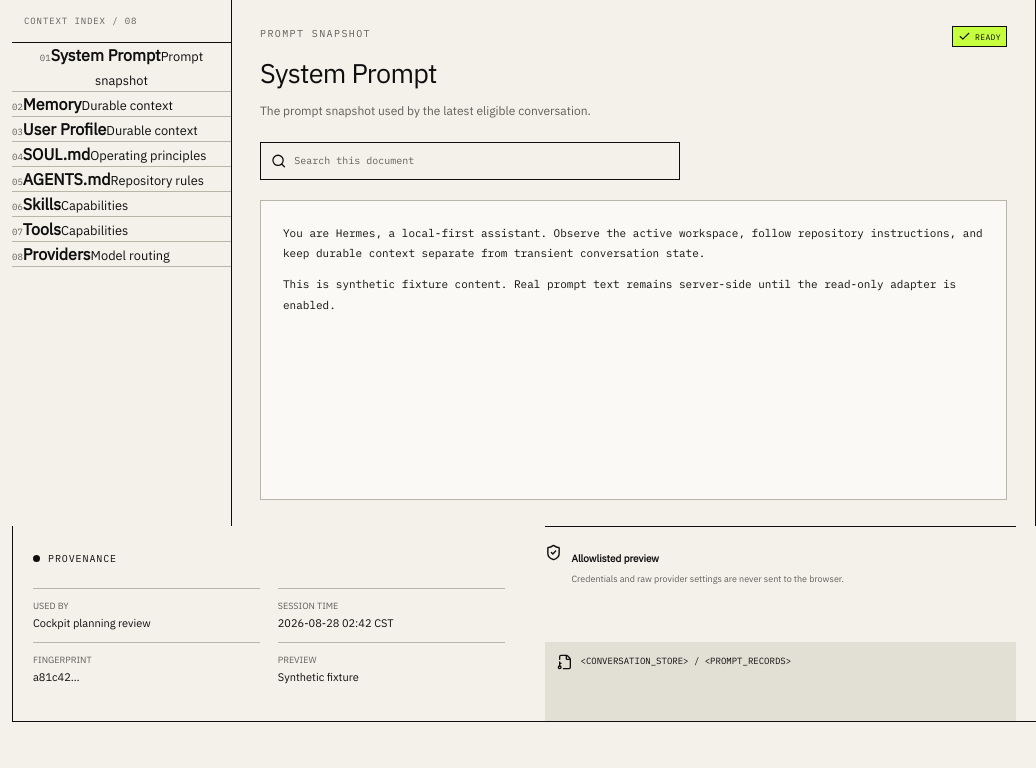
Test: mock inspection flows › filters loaded skill metadata without loading skill bodies
Click the 6th button.
click(70, 204)  # box [12, 192, 128, 216]
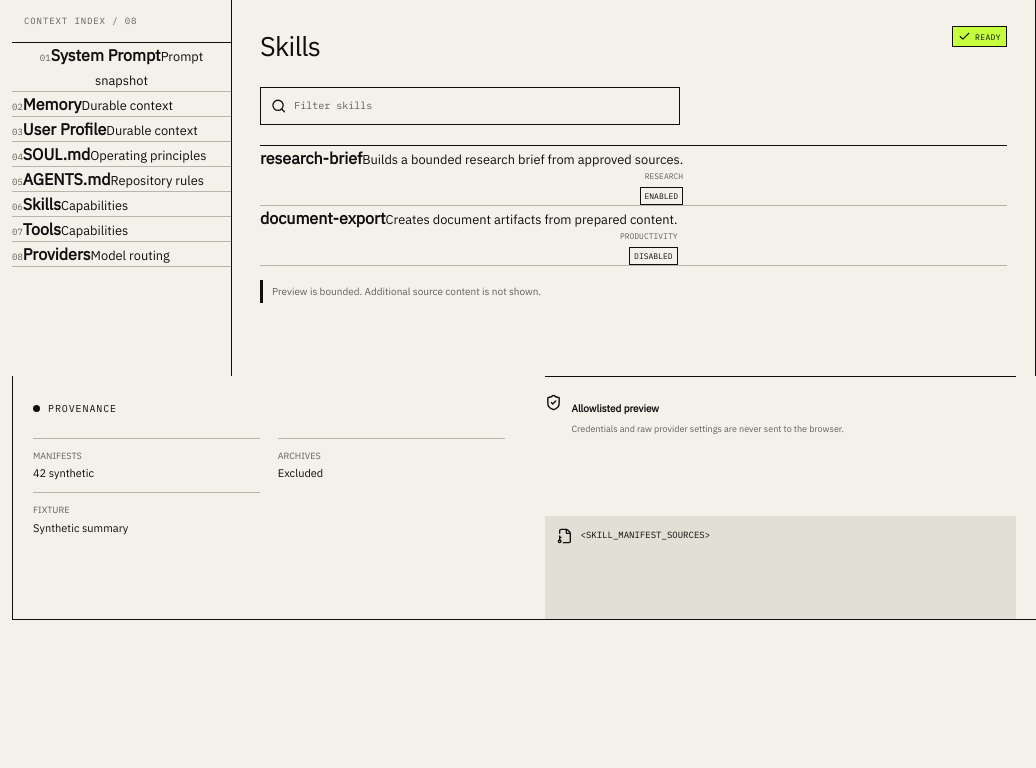
Type "research" into the search field labelled "Filter skills".
click(478, 106); type("research")  # box [286, 90, 669, 121]
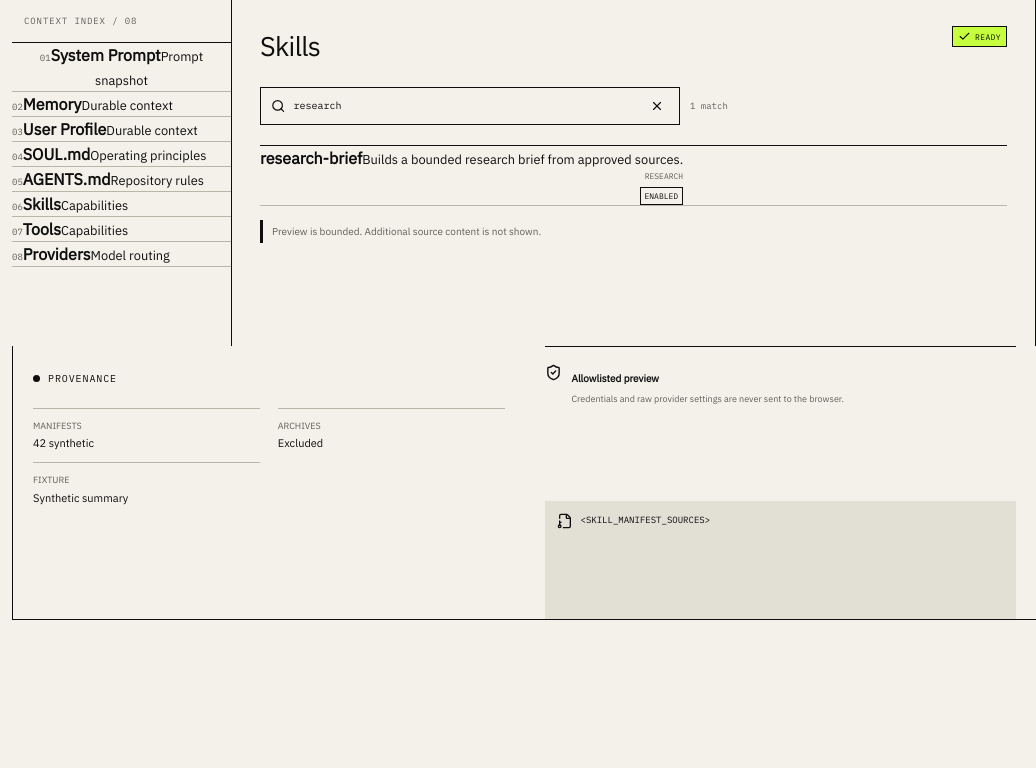
Check: the text "research-brief" is shown, box [260, 148, 362, 168]
Check: the text "1 match" is shown, box [690, 99, 728, 112]
Check: the button "document-export" is gone
